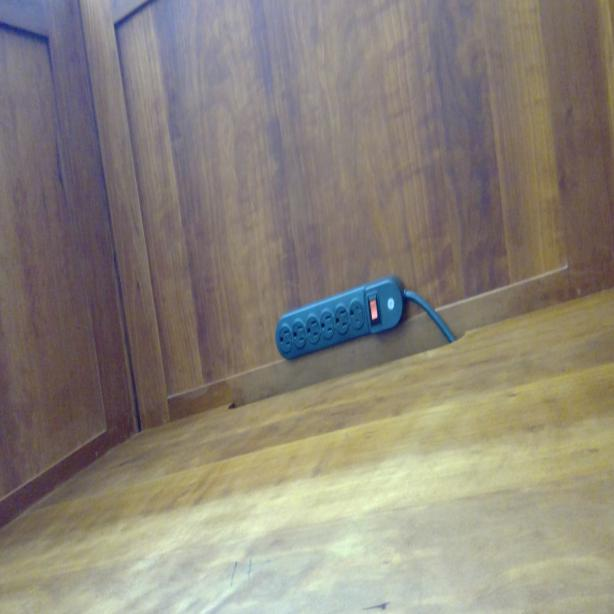typeb: (349, 298, 365, 328), (334, 308, 350, 334), (290, 320, 306, 346), (306, 314, 320, 342), (320, 311, 335, 336), (278, 326, 292, 350)
